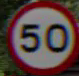Speed limit: (5, 2, 74, 67)
